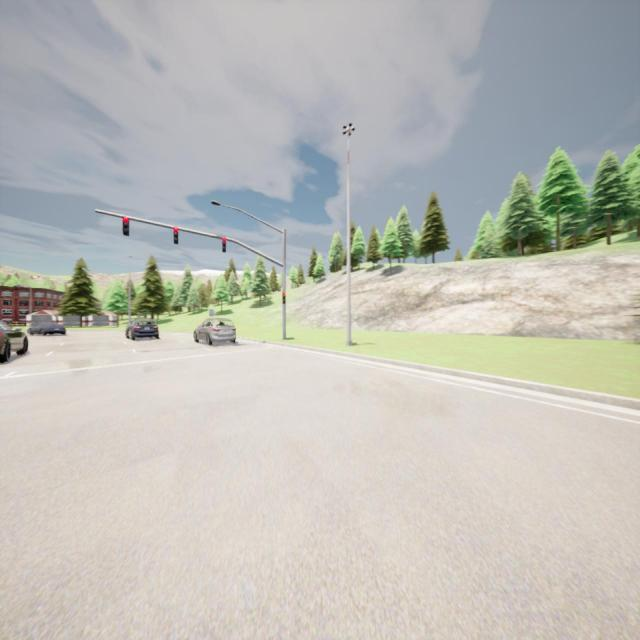Traffic_Signs: (208, 310, 214, 316)
Vehicle: (0, 317, 30, 368), (194, 318, 237, 348), (124, 316, 159, 344), (26, 321, 66, 338)
traffic_light: (123, 218, 129, 235), (174, 228, 178, 244), (222, 238, 226, 252), (282, 292, 286, 304)
